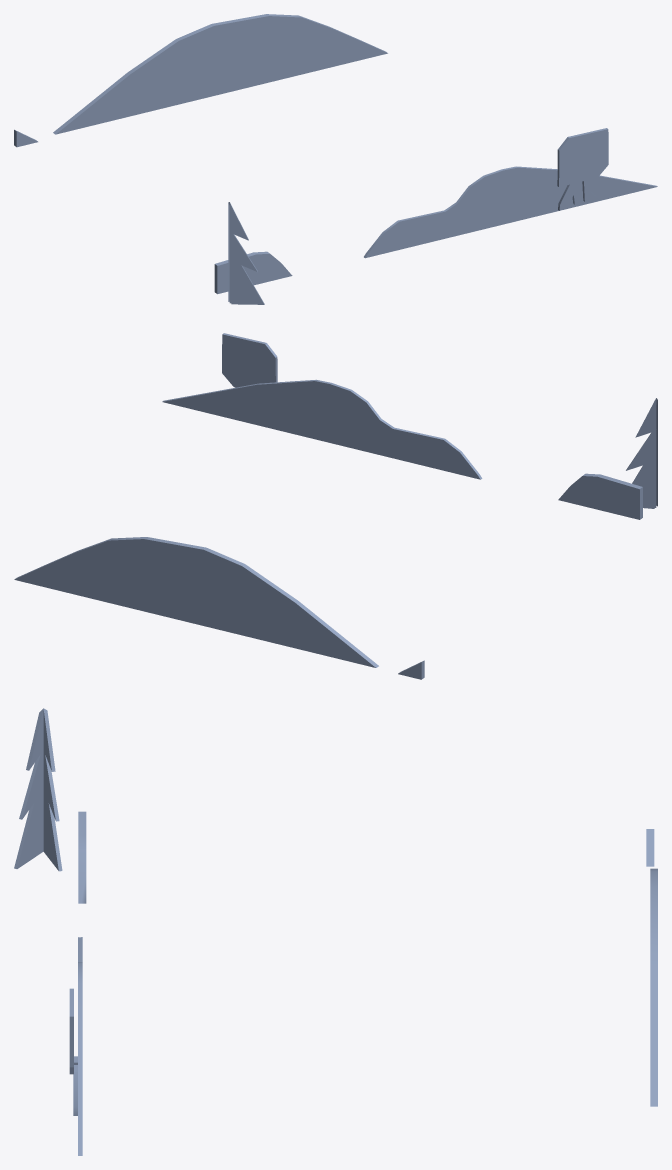
The model's file is frame_0086.glb.
3 views of the same model, one above another, from view 1: azimuth 30°, elevation 25°; view 2: azimuth 150°, elevation 25°; view 3: azimuth 270°, elevation 25° (orthographic). The views are drawn at different scales.
Parts seen in each view (by area): view 1: export_trees_001.002; view 2: export_trees_001.002; view 3: export_trees_001.002.
Part boxes in pixels (x1=…): export_trees_001.002: x1=14, y1=14, x2=657, y2=304; export_trees_001.002: x1=14, y1=333, x2=657, y2=679; export_trees_001.002: x1=14, y1=708, x2=657, y2=1155.
Bounding box in the file's own units: 0.3913 × 0.0861 × 0.35.
